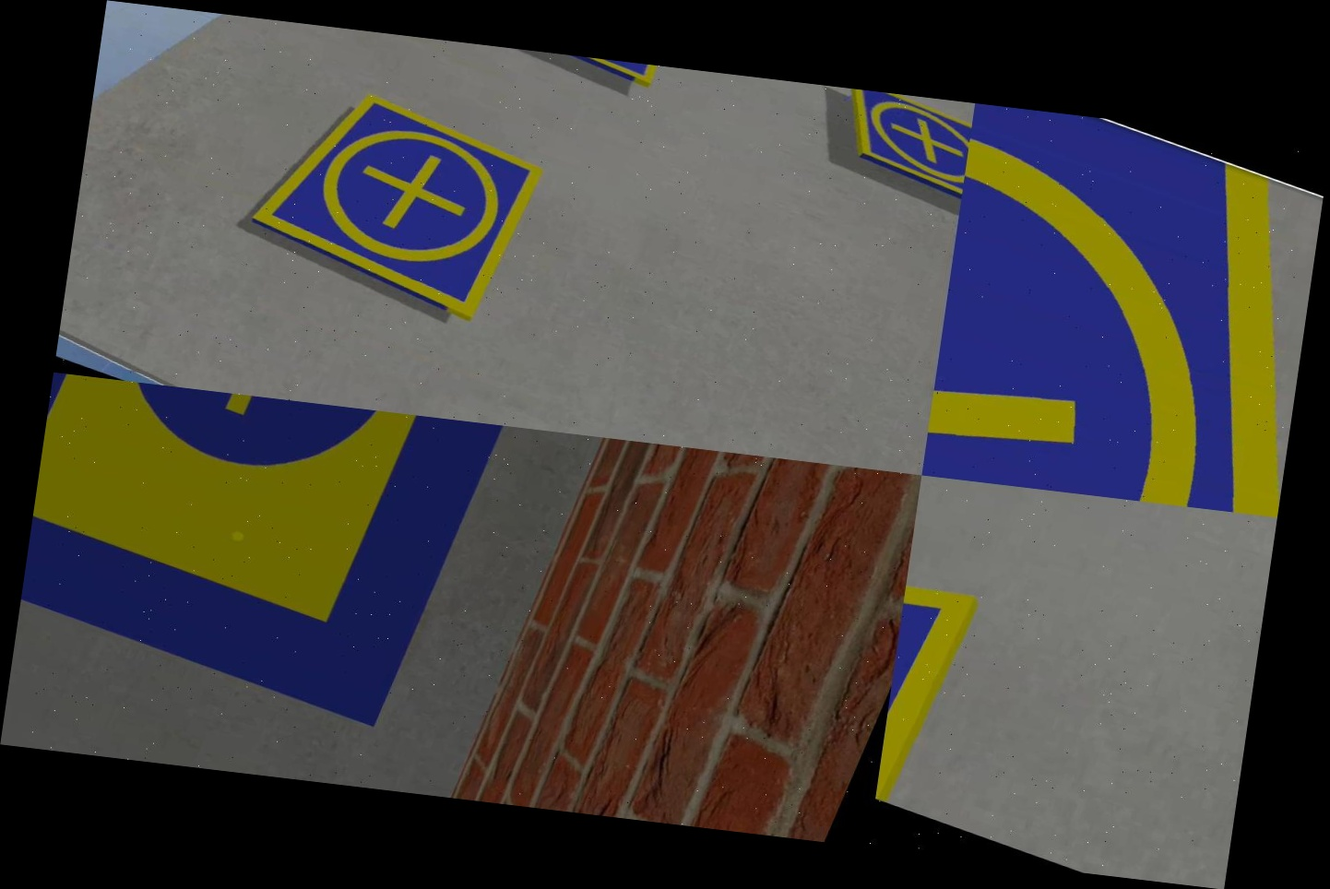large_base: (8, 373, 542, 743)
small_base: (921, 103, 1330, 517), (228, 63, 564, 341), (874, 548, 990, 812), (811, 86, 975, 218), (496, 47, 676, 95)
